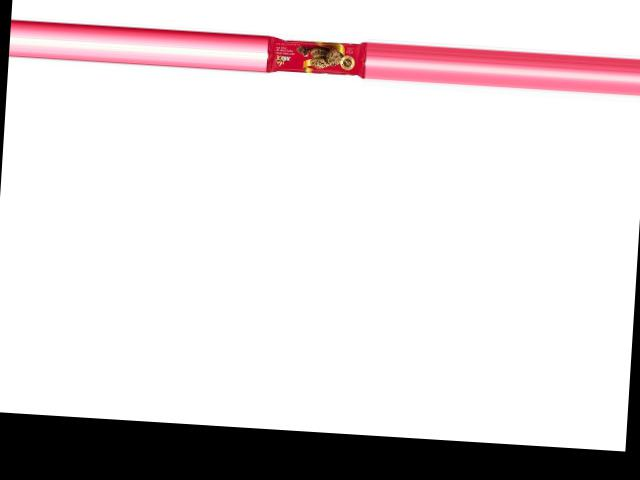chocolate: (265, 32, 365, 77)
